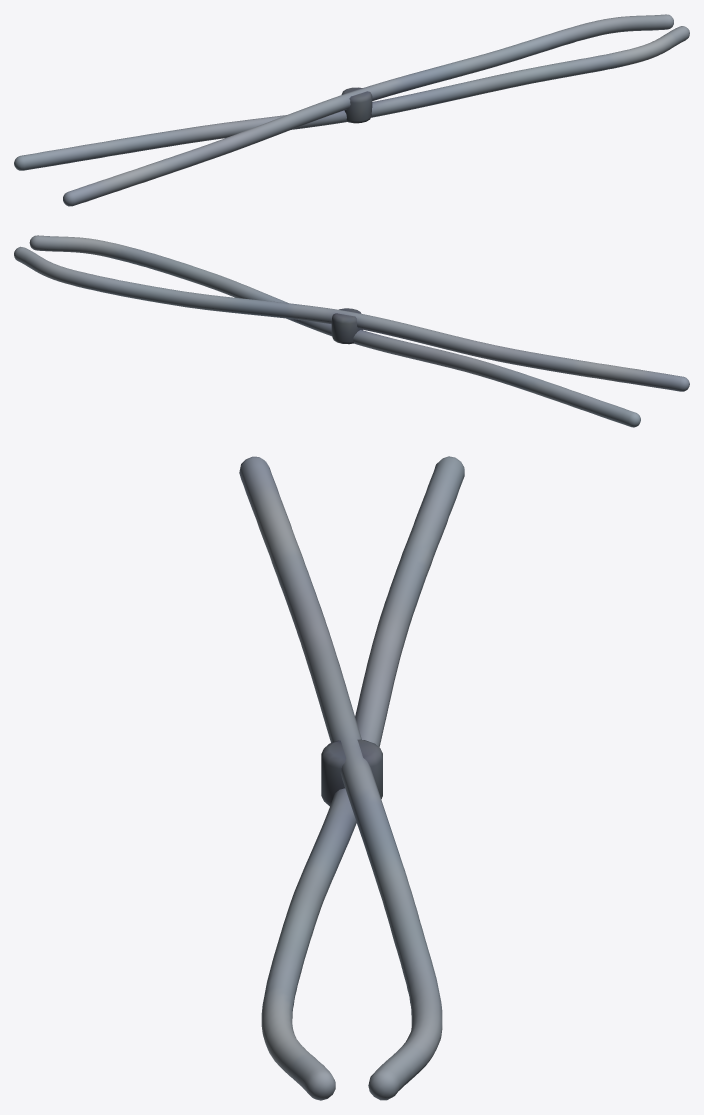
File: tongs.glb
3 renders of one model, top to bottom at view 1: azimuth 30°, elevation 25°; view 2: azimuth 150°, elevation 25°; view 3: azimuth 270°, elevation 25°, orthographic. The views are drawn at different scales.
Parts seen in each view (by area): view 1: tongs-arms, tongs-rivet; view 2: tongs-arms, tongs-rivet; view 3: tongs-arms, tongs-rivet.
Boxes of the visible parts, x1,y1,x2,y2 form: tongs-arms: (14, 14, 689, 206); tongs-rivet: (341, 87, 372, 123); tongs-arms: (14, 235, 689, 427); tongs-rivet: (331, 308, 362, 344); tongs-arms: (239, 456, 464, 1100); tongs-rivet: (321, 739, 382, 806).
Size of what is drawn, in the model's own units: 25.84 by 1.1 by 3.93.
